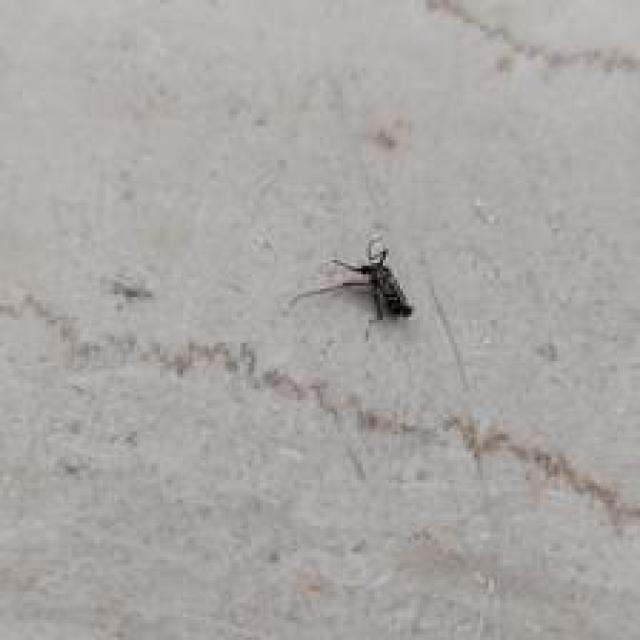Aedes albopictus: (289, 236, 414, 324)
